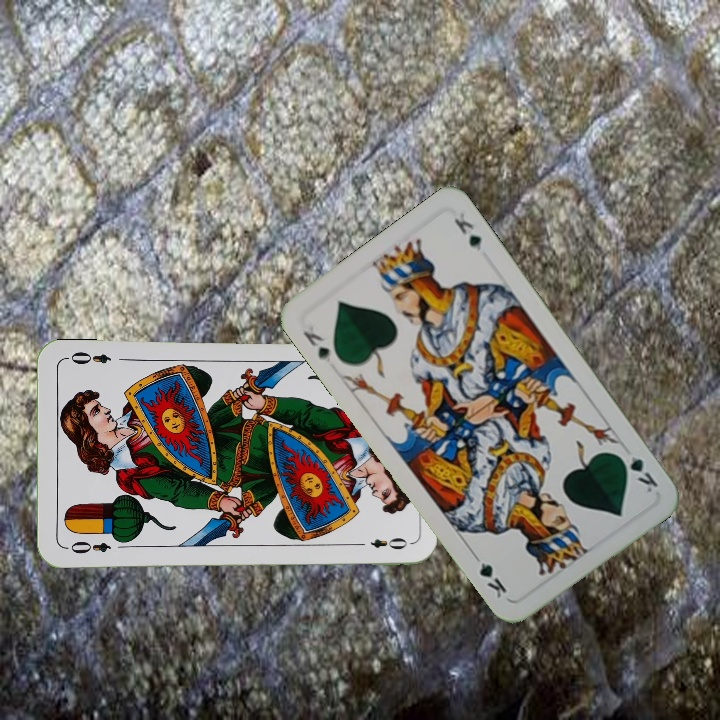EO: (61, 537, 113, 556)
GK: (614, 449, 661, 495), (298, 326, 335, 366)
